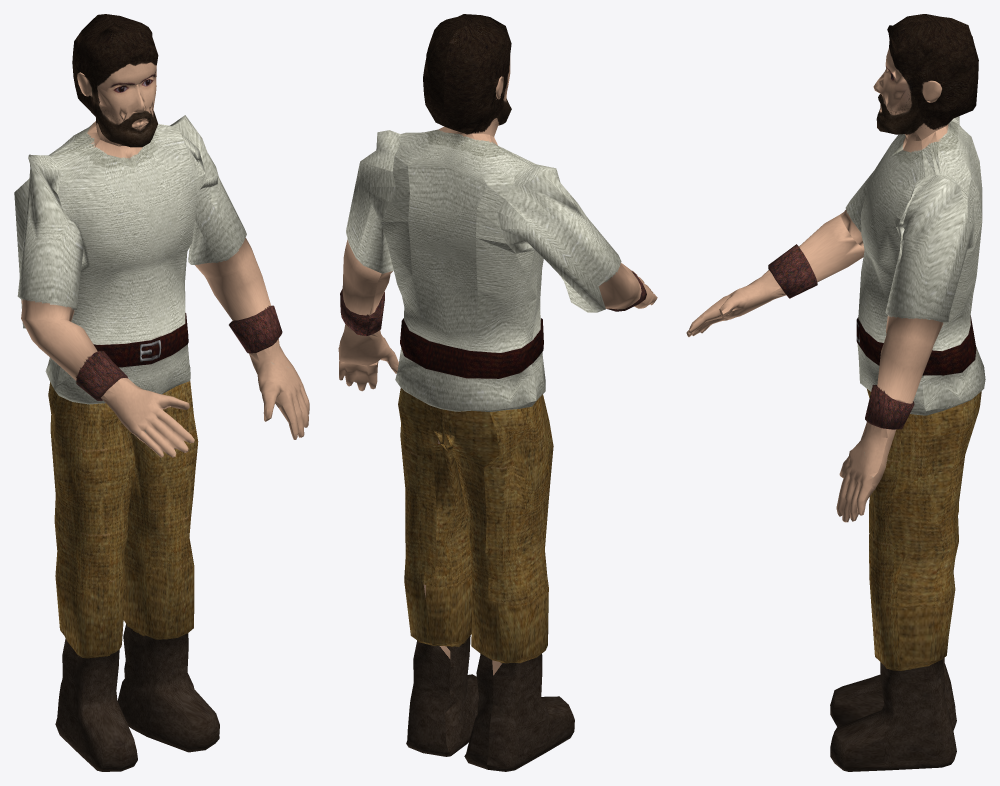
File: lumberJack.obj
3 renders of one model, left to right at view 1: azimuth 30°, elevation 25°; view 2: azimuth 150°, elevation 25°; view 3: azimuth 270°, elevation 25°, orthographic. The views are drawn at different scales.
Visible parts, largest first — view 1: lumberJack; view 2: lumberJack; view 3: lumberJack.
Part boxes in pixels (x1=…): lumberJack: x1=14, y1=14, x2=309, y2=771; lumberJack: x1=338, y1=14, x2=657, y2=771; lumberJack: x1=686, y1=14, x2=985, y2=771.
Bounding box in the file's own units: 1.94 × 4.59 × 1.72.
Materials: 1 (1 with a texture image).
